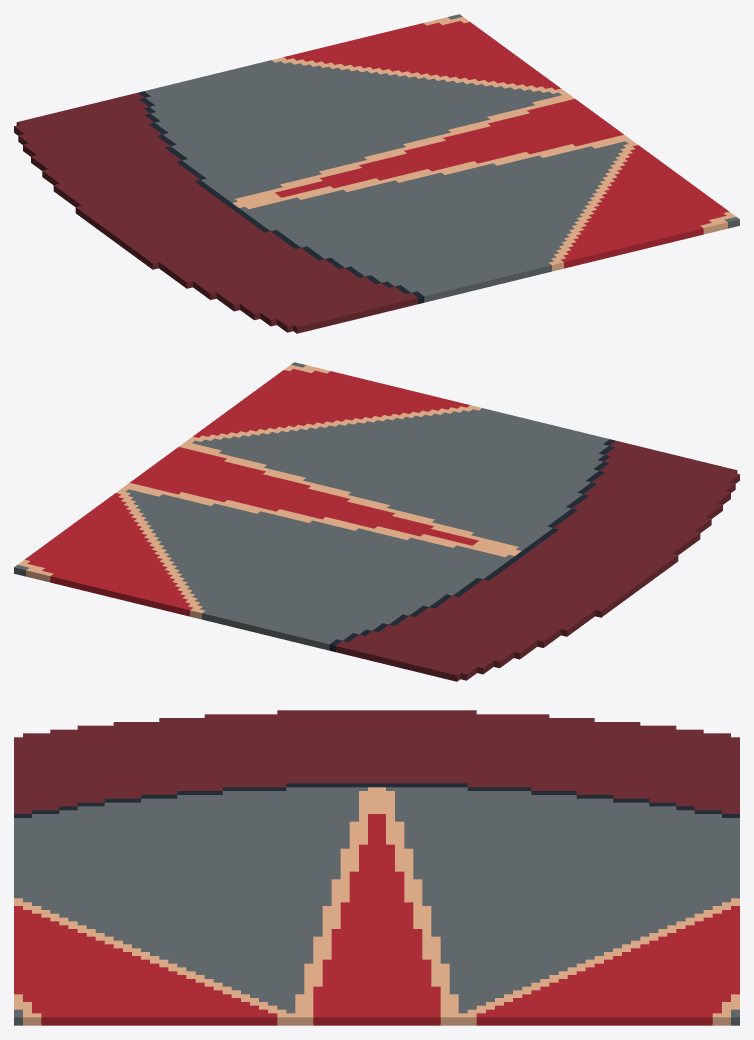
The model's file is monument_circle_side_overtile.obj.
The picture shows the model from 3 angles, top to bottom: view 1: azimuth 30°, elevation 25°; view 2: azimuth 150°, elevation 25°; view 3: azimuth 270°, elevation 25°; orthographic projection. The views are drawn at different scales.
Size of the model in its own units: 8 by 0.1 by 8.
1 material, 1 textured.
